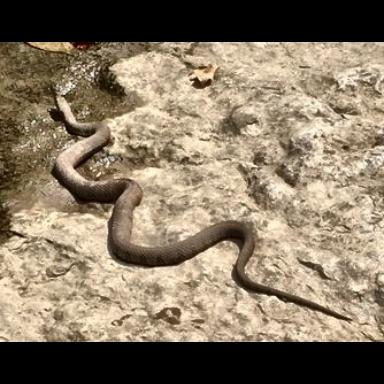snake: (49, 74, 362, 327)
